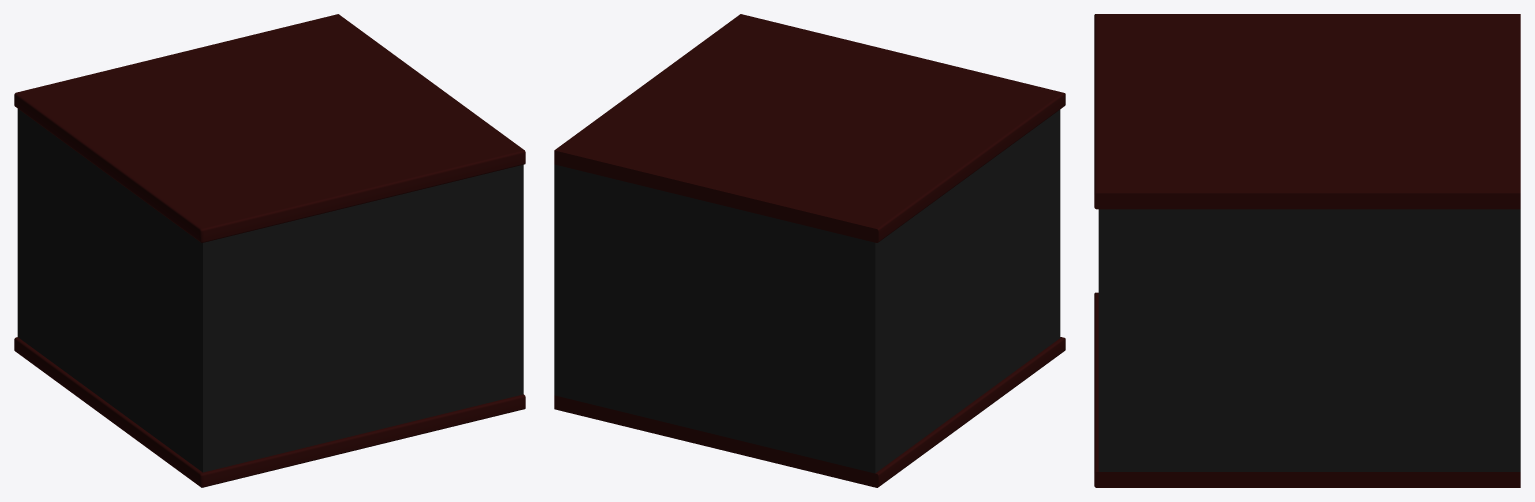
Rendered from Counters_Corner.FBX.
The picture shows the model from 3 angles, left to right: view 1: azimuth 30°, elevation 25°; view 2: azimuth 150°, elevation 25°; view 3: azimuth 270°, elevation 25°; orthographic projection. The views are drawn at different scales.
Parts seen in each view (by area): view 1: Corner; view 2: Corner; view 3: Corner.
Boxes of the visible parts, x1,y1,x2,y2 form: Corner: [14, 14, 525, 487]; Corner: [554, 14, 1065, 487]; Corner: [1094, 14, 1520, 487].
Size of the model in its own units: 48.5 by 37 by 48.5.
